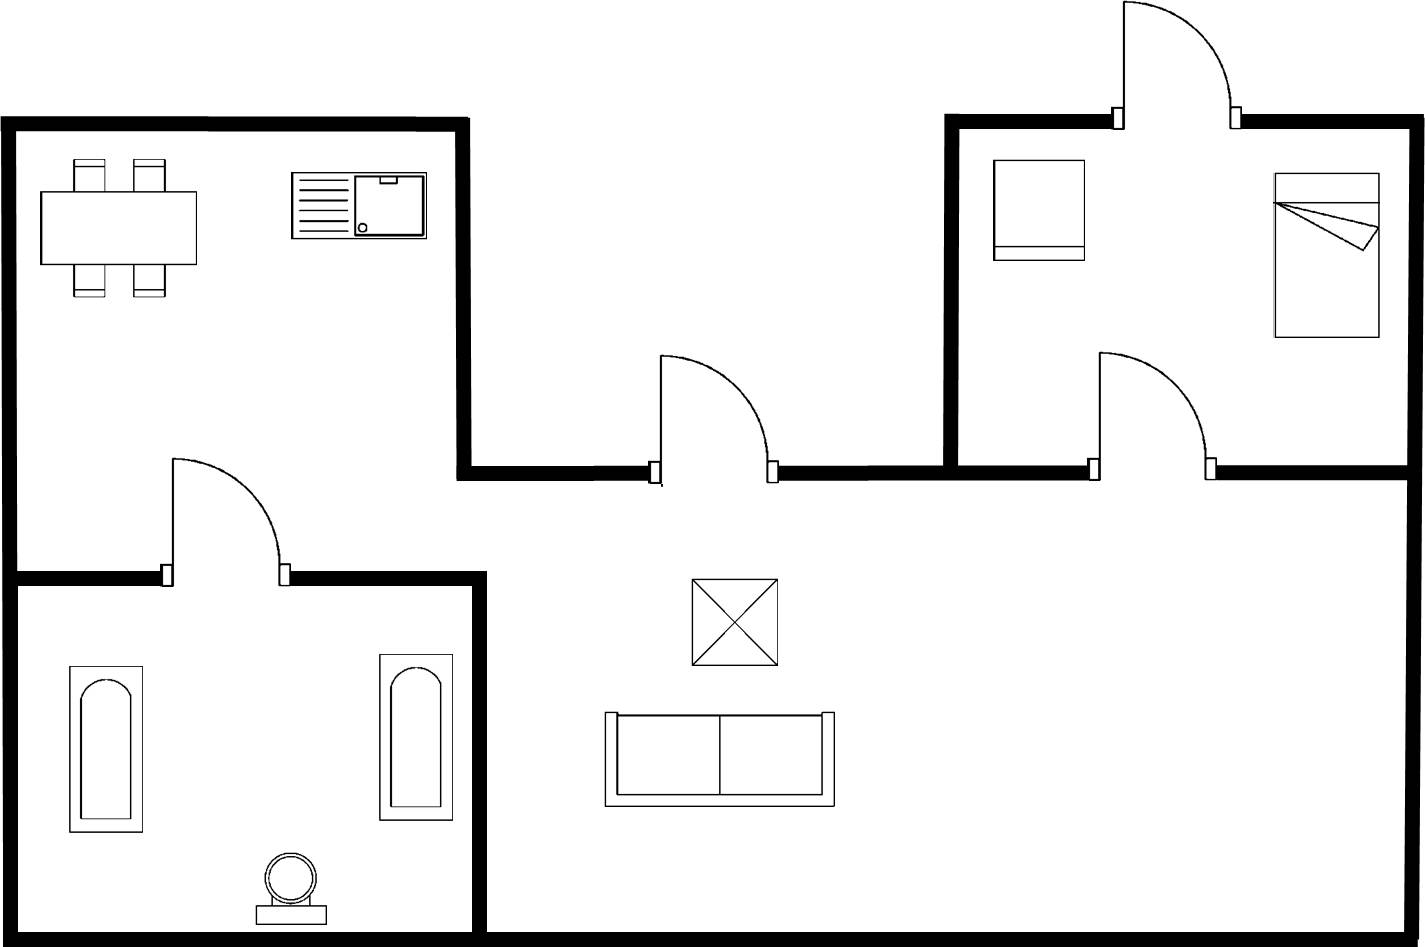bed: (1265, 167, 1387, 344)
coffee_table: (681, 570, 786, 675)
dining_table: (35, 153, 203, 308)
large_sink: (247, 846, 334, 930)
large_sofa: (595, 708, 843, 811)
sink: (285, 166, 433, 246)
small_sofa: (984, 152, 1092, 270)
tub: (60, 660, 150, 839), (373, 648, 462, 828)
